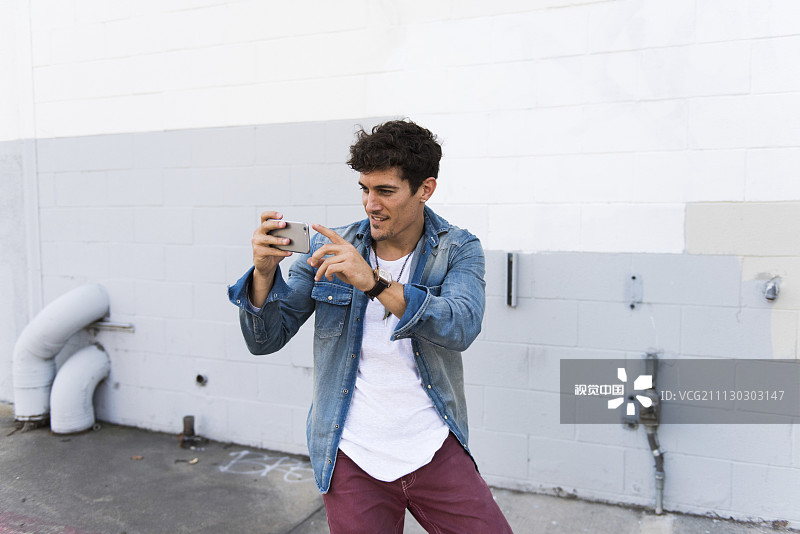no-phone: (307, 218, 388, 304)
taking photos: (233, 201, 309, 292)
